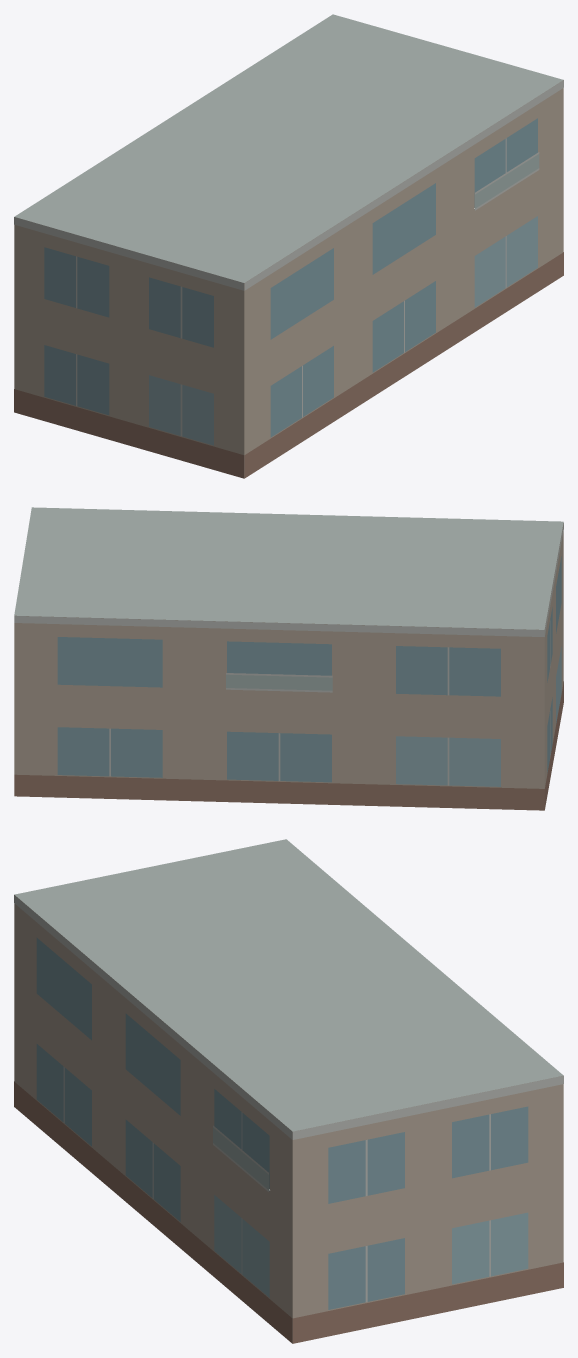
The model's file is survey-upis-32704789.glb.
The picture shows the model from 3 angles, top to bottom: view 1: azimuth 30°, elevation 25°; view 2: azimuth 150°, elevation 25°; view 3: azimuth 270°, elevation 25°; orthographic projection. The views are drawn at different scales.
Parts seen in each view (by area): view 1: survey-upis-32704789.tmp; view 2: survey-upis-32704789.tmp; view 3: survey-upis-32704789.tmp.
Part boxes in pixels (x1,y1,x2,y2): survey-upis-32704789.tmp: (14,14,563,478); survey-upis-32704789.tmp: (14,507,563,810); survey-upis-32704789.tmp: (14,839,563,1343).
Size of the model in its own units: 18.05 by 6.1 by 14.33.
